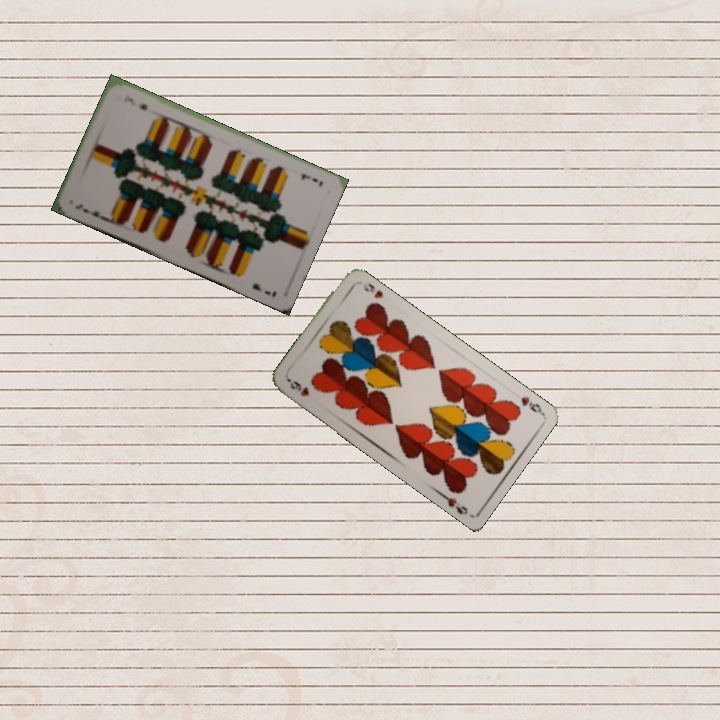E7: (71, 200, 108, 222), (297, 169, 326, 190)
H9: (517, 392, 545, 416), (285, 376, 312, 399)
